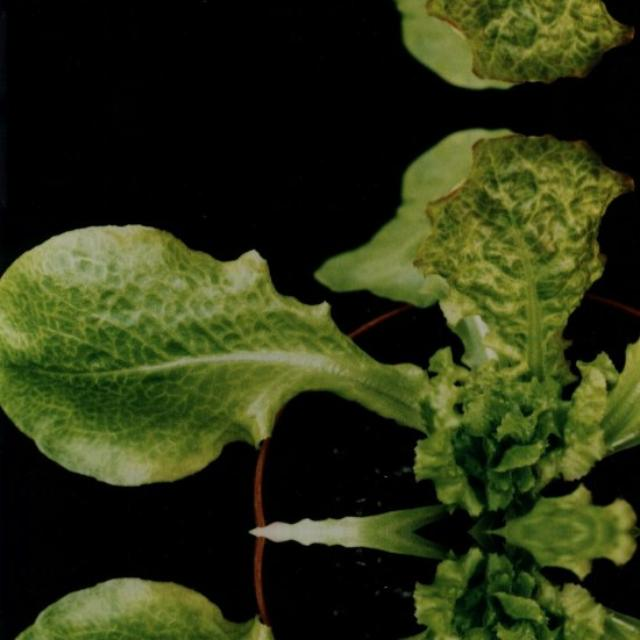lettuce mosaic virus: (5, 240, 523, 486), (400, 146, 636, 514), (5, 577, 523, 640), (400, 549, 636, 640), (400, 0, 636, 69)
